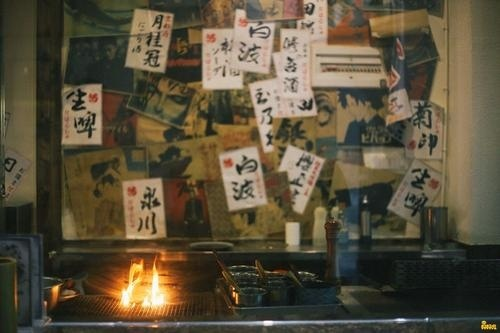fire: (117, 256, 166, 307)
